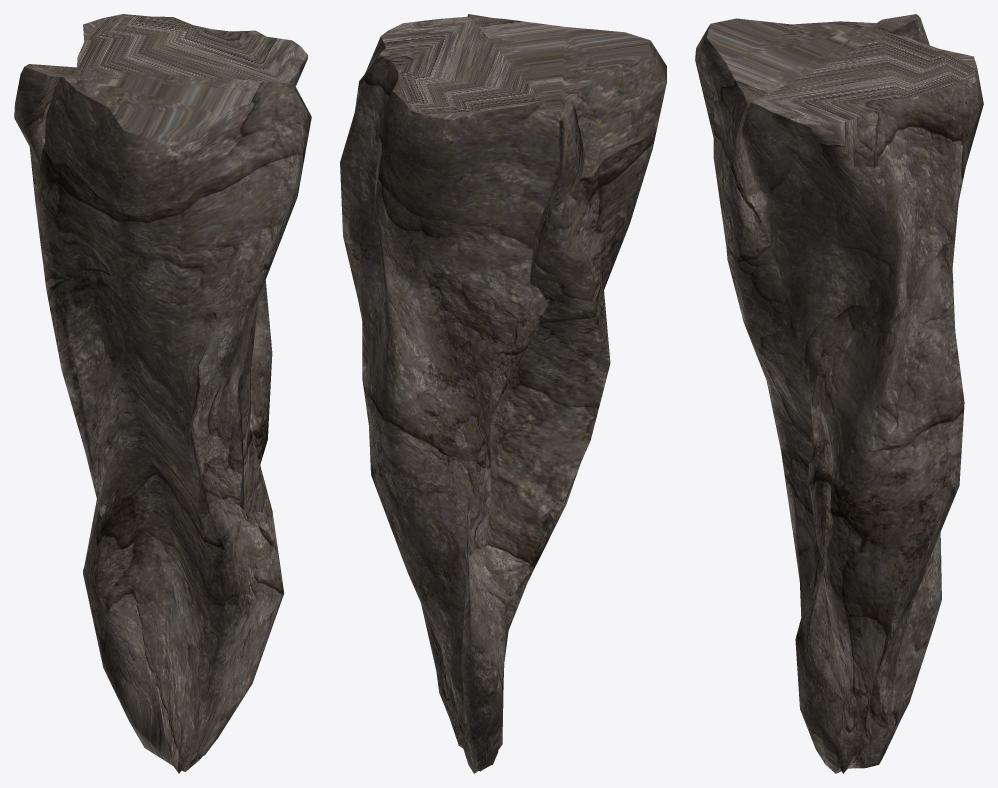
Rendered from ESTALACTITA GRANDE FRAGMENTOS.FBX.
3 views of the same model, side by side, from view 1: azimuth 30°, elevation 25°; view 2: azimuth 150°, elevation 25°; view 3: azimuth 270°, elevation 25° (orthographic).
Parts seen in each view (by area): view 1: ESTALACTITA 003_frag_001, ESTALACTITA 003_frag_005, ESTALACTITA 003_frag_003, ESTALACTITA 003_frag_004; view 2: ESTALACTITA 003_frag_005, ESTALACTITA 003_frag_001, ESTALACTITA 003_frag_003, ESTALACTITA 003_frag_002, ESTALACTITA 003_frag_004; view 3: ESTALACTITA 003_frag_005, ESTALACTITA 003_frag_001, ESTALACTITA 003_frag_002, ESTALACTITA 003_frag_003, ESTALACTITA 003_frag_004.
Part boxes in pixels (<box>): ESTALACTITA 003_frag_001: <box>14,39,311,366</box>; ESTALACTITA 003_frag_005: <box>45,280,284,773</box>; ESTALACTITA 003_frag_003: <box>83,14,251,41</box>; ESTALACTITA 003_frag_004: <box>245,30,305,52</box>; ESTALACTITA 003_frag_005: <box>360,299,610,773</box>; ESTALACTITA 003_frag_001: <box>398,14,666,303</box>; ESTALACTITA 003_frag_003: <box>371,50,481,233</box>; ESTALACTITA 003_frag_002: <box>340,115,425,314</box>; ESTALACTITA 003_frag_004: <box>352,26,404,122</box>; ESTALACTITA 003_frag_005: <box>745,312,964,773</box>; ESTALACTITA 003_frag_001: <box>695,14,942,357</box>; ESTALACTITA 003_frag_002: <box>860,160,965,377</box>; ESTALACTITA 003_frag_003: <box>854,49,983,181</box>; ESTALACTITA 003_frag_004: <box>806,109,901,225</box>.
Size of the model in its own units: 70.83 by 196 by 73.03.
Materials: 1 (1 with a texture image).
